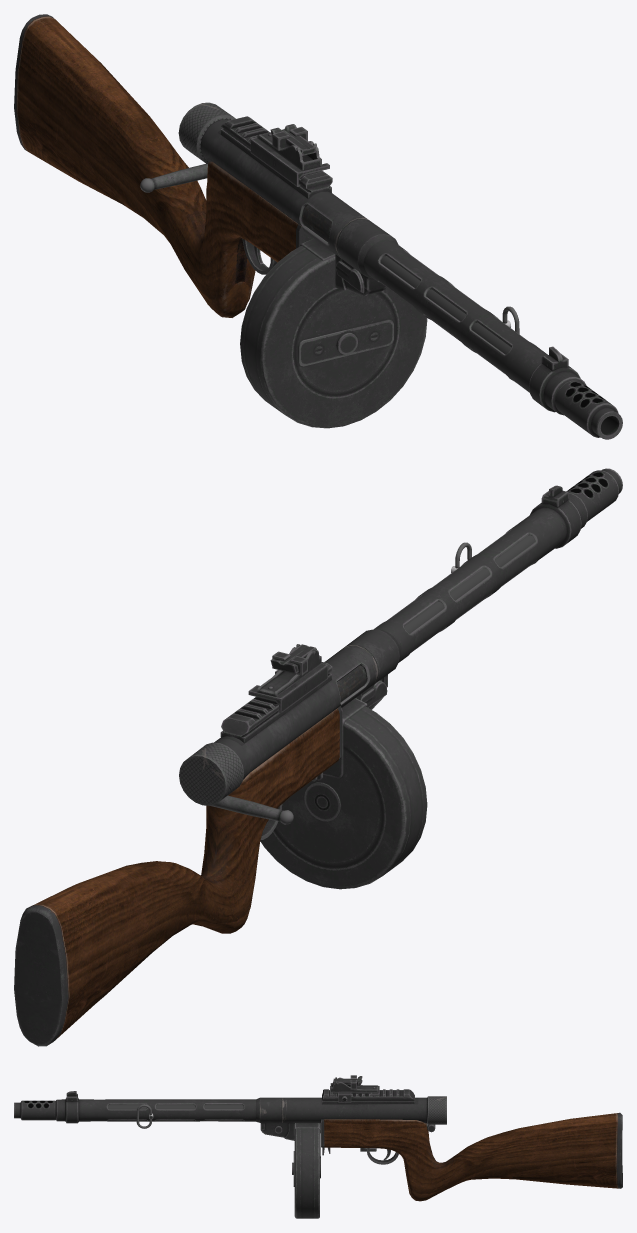
File: raw.glb
3 views of the same model, one above another, from view 1: azimuth 30°, elevation 25°; view 2: azimuth 150°, elevation 25°; view 3: azimuth 270°, elevation 25° (orthographic). The views are drawn at different scales.
Visible parts, largest first — view 1: suomi_LOD0; view 2: suomi_LOD0; view 3: suomi_LOD0.
Part boxes in pixels (x1=…): suomi_LOD0: x1=14, y1=14, x2=622, y2=439; suomi_LOD0: x1=14, y1=468, x2=622, y2=1046; suomi_LOD0: x1=14, y1=1075, x2=622, y2=1218.
Size of the model in its own units: 0.1163 by 0.1691 by 0.6908.
Materials: 1 (1 with a texture image).
